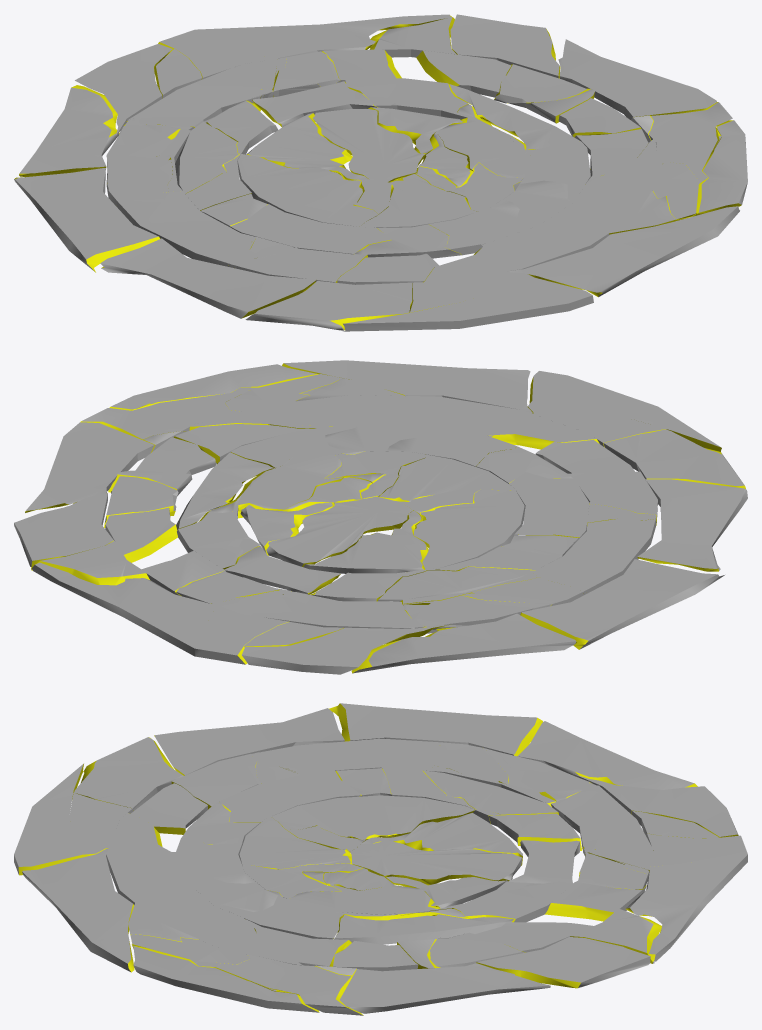
The model's file is ground_shatter2.fbx.
3 renders of one model, top to bottom at view 1: azimuth 30°, elevation 25°; view 2: azimuth 150°, elevation 25°; view 3: azimuth 270°, elevation 25°, orthographic.
Parts seen in each view (by area): view 1: polySurface221, polySurface227, polySurface237, polySurface168, polySurface230, polySurface240, polySurface185, polySurface241, polySurface234, polySurface222, polySurface156, polySurface170 (+51 smaller); view 2: polySurface227, polySurface221, polySurface237, polySurface241, polySurface222, polySurface230, polySurface168, polySurface185, polySurface156, polySurface233, polySurface234, polySurface180 (+51 smaller); view 3: polySurface221, polySurface227, polySurface230, polySurface168, polySurface237, polySurface222, polySurface223, polySurface156, polySurface185, polySurface241, polySurface234, polySurface232 (+52 smaller).
Part boxes in pixels (box(x1,y1,x2,y2)): polySurface221: box(508, 206, 739, 297); polySurface227: box(14, 168, 160, 272); polySurface237: box(100, 238, 316, 318); polySurface168: box(237, 154, 378, 226); polySurface230: box(558, 39, 716, 119); polySurface240: box(343, 279, 593, 331); polySurface185: box(118, 191, 293, 268); polySurface241: box(19, 85, 119, 176); polySurface234: box(245, 281, 412, 330); polySurface222: box(188, 14, 451, 59); polySurface156: box(312, 108, 425, 181); polySurface170: box(416, 50, 641, 137); polySurface227: box(520, 559, 724, 649); polySurface221: box(282, 360, 532, 413); polySurface237: box(637, 479, 747, 571); polySurface241: box(351, 613, 577, 673); polySurface222: box(31, 562, 217, 656); polySurface230: box(25, 422, 154, 512); polySurface168: box(413, 489, 524, 569); polySurface185: box(530, 504, 656, 593); polySurface156: box(266, 496, 412, 566); polySurface233: box(242, 624, 451, 674); polySurface234: box(603, 429, 745, 488); polySurface180: box(251, 568, 583, 633); polySurface221: box(22, 848, 134, 972); polySurface227: box(329, 703, 542, 756); polySurface230: box(340, 963, 550, 1013); polySurface168: box(271, 795, 474, 839); polySurface237: box(154, 708, 344, 775); polySurface222: box(625, 851, 747, 961); polySurface223: box(476, 937, 650, 988); polySurface156: box(350, 841, 522, 884); polySurface185: box(257, 738, 438, 783); polySurface241: box(517, 721, 697, 789); polySurface234: box(74, 737, 183, 810); polySurface232: box(132, 945, 319, 1012).
Size of the model in its own units: 5.06 by 0.06 by 5.14.
